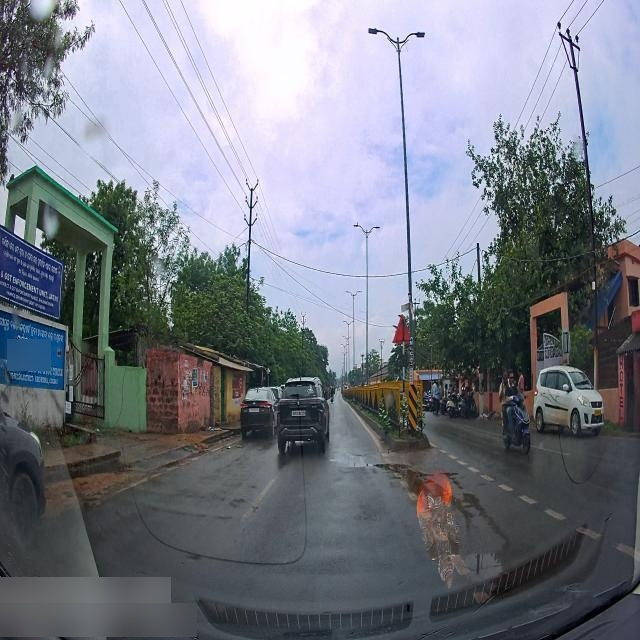pothole: (366, 461, 424, 488)
